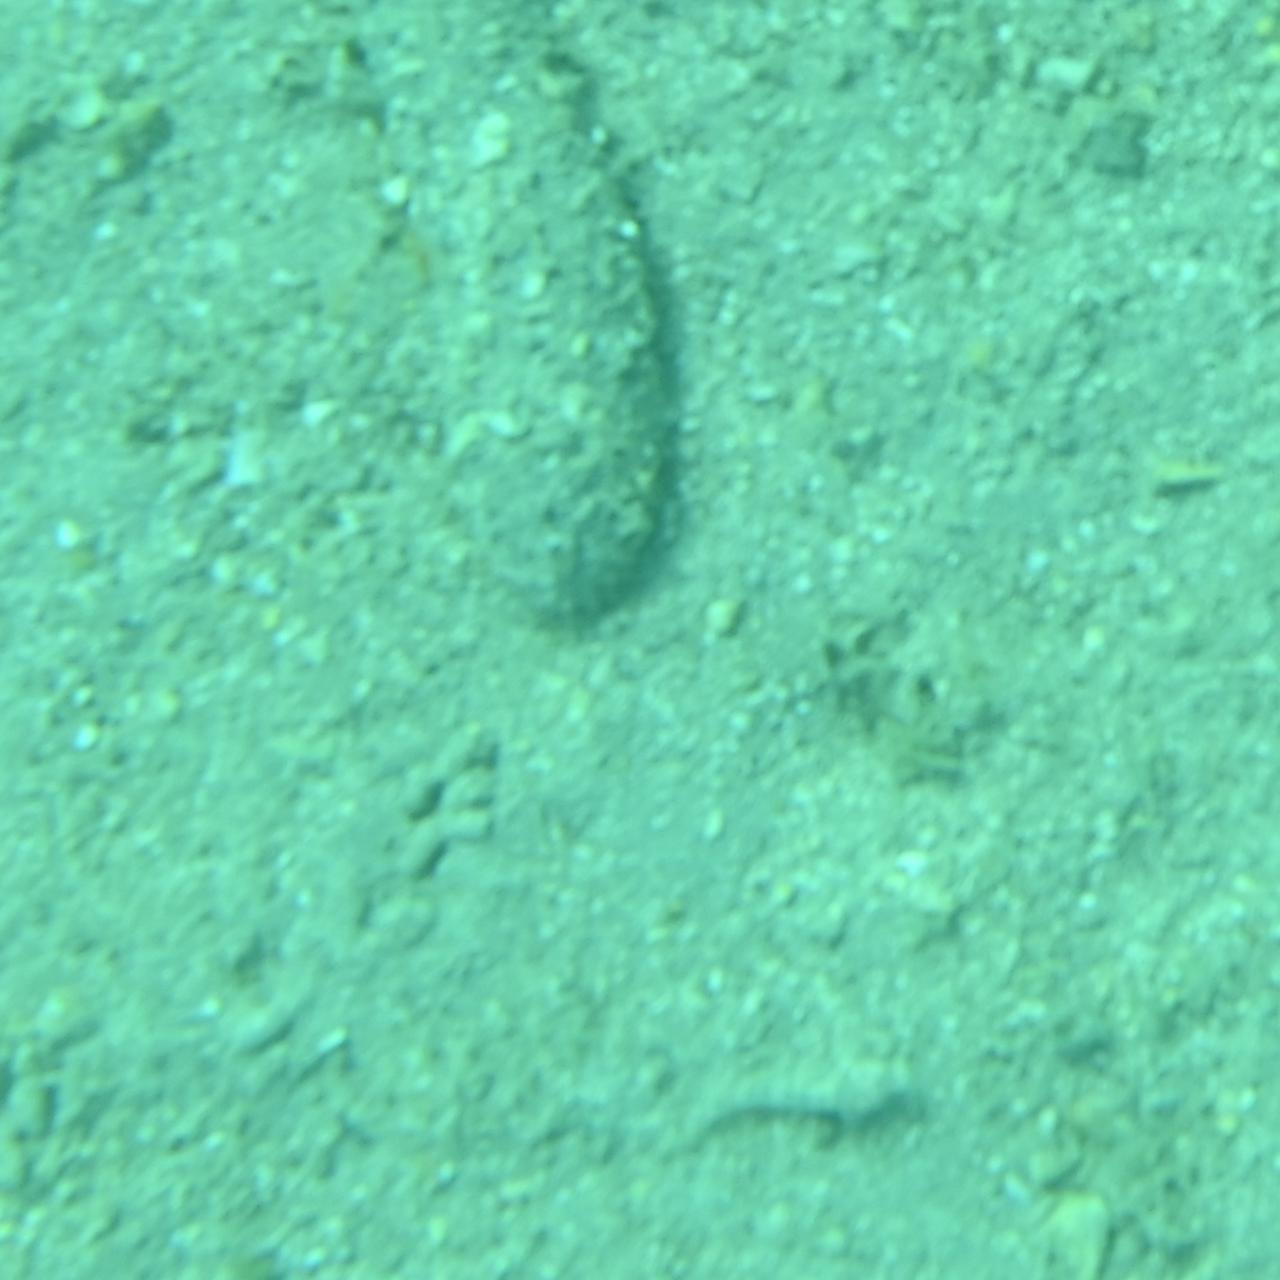Gobius sp: (676, 1036, 915, 1196)
Holothuria tubulosa: (263, 0, 706, 651)
